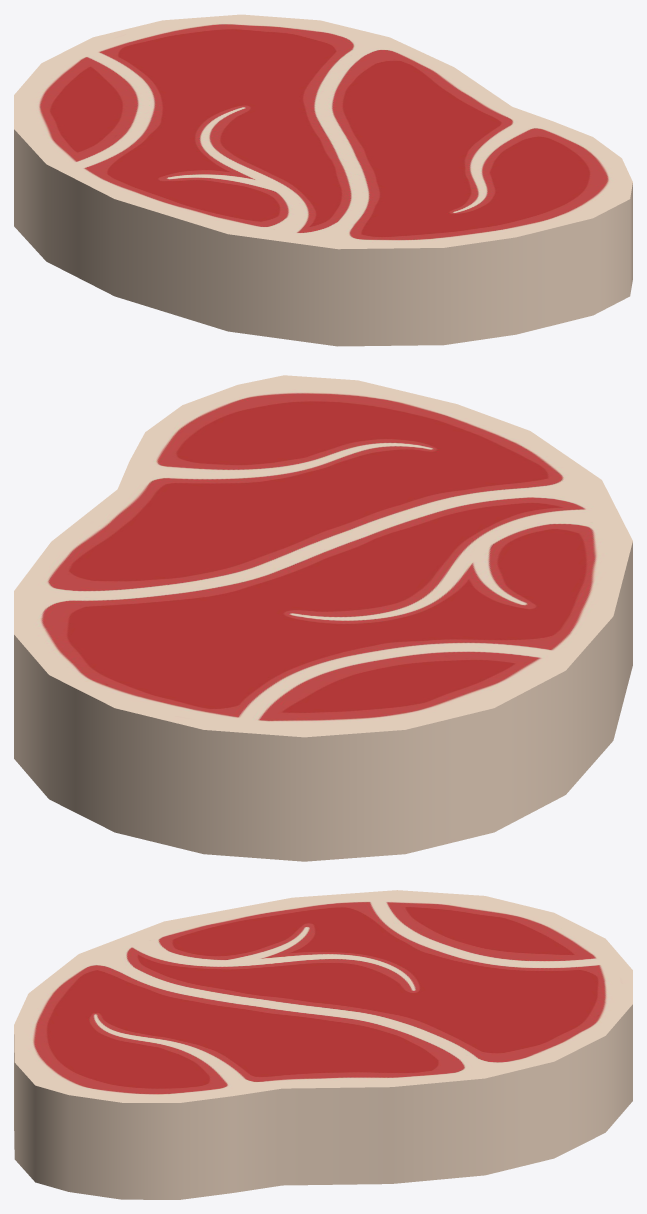
The model's file is Steak.FBX.
3 views of the same model, one above another, from view 1: azimuth 30°, elevation 25°; view 2: azimuth 150°, elevation 25°; view 3: azimuth 270°, elevation 25° (orthographic). The views are drawn at different scales.
Visible parts, largest first — view 1: Steak; view 2: Steak; view 3: Steak.
Boxes of the visible parts, x1,y1,x2,y2 form: Steak: (14,14,632,346); Steak: (14,375,632,861); Steak: (14,890,632,1199).
Size of the model in its own units: 24.27 by 5.15 by 29.82.
Materials: 1 (1 with a texture image).
